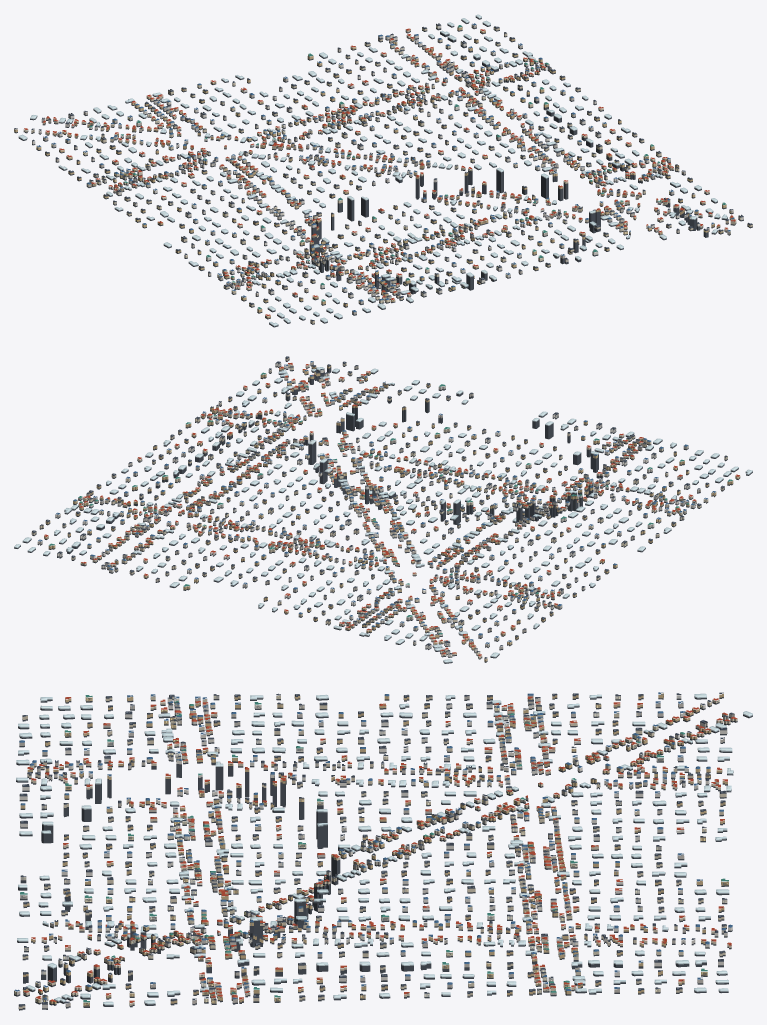
The model's file is osm_buildings_T_W04_N05.glb.
3 views of the same model, one above another, from view 1: azimuth 30°, elevation 25°; view 2: azimuth 150°, elevation 25°; view 3: azimuth 270°, elevation 25° (orthographic). The views are drawn at different scales.
Visible parts, largest first — view 1: OSM_T_W04_N05_foundation, OSM_T_W04_N05_greenhouse_blend, OSM_T_W04_N05_wall_cream_stucco, OSM_T_W04_N05_wall_french_ochre, OSM_T_W04_N05_roof_terracotta, OSM_T_W04_N05_roof_mansard_slate, OSM_T_W04_N05_wall_warm_white, OSM_T_W04_N05_wall_pastel_sand, OSM_T_W04_N05_roof_alpine_blue, OSM_T_W04_N05_roof_mansard_deck, OSM_T_W04_N05_roof_mint_metal, OSM_T_W04_N05_balcony_railing; view 2: OSM_T_W04_N05_foundation, OSM_T_W04_N05_greenhouse_blend, OSM_T_W04_N05_wall_french_ochre, OSM_T_W04_N05_wall_cream_stucco, OSM_T_W04_N05_roof_terracotta, OSM_T_W04_N05_roof_mansard_slate, OSM_T_W04_N05_wall_warm_white, OSM_T_W04_N05_wall_pastel_sand, OSM_T_W04_N05_roof_alpine_blue, OSM_T_W04_N05_roof_mansard_deck, OSM_T_W04_N05_roof_mint_metal; view 3: OSM_T_W04_N05_foundation, OSM_T_W04_N05_greenhouse_blend, OSM_T_W04_N05_wall_french_ochre, OSM_T_W04_N05_wall_cream_stucco, OSM_T_W04_N05_roof_mansard_slate, OSM_T_W04_N05_roof_terracotta, OSM_T_W04_N05_wall_warm_white, OSM_T_W04_N05_wall_pastel_sand, OSM_T_W04_N05_roof_alpine_blue, OSM_T_W04_N05_roof_mansard_deck, OSM_T_W04_N05_roof_mint_metal, OSM_T_W04_N05_balcony_railing.
Boxes of the visible parts, x1,y1,x2,y2 form: OSM_T_W04_N05_foundation: [14, 17, 752, 327]; OSM_T_W04_N05_greenhouse_blend: [18, 14, 727, 326]; OSM_T_W04_N05_wall_cream_stucco: [23, 27, 752, 323]; OSM_T_W04_N05_wall_french_ochre: [14, 26, 732, 318]; OSM_T_W04_N05_roof_terracotta: [24, 28, 735, 316]; OSM_T_W04_N05_roof_mansard_slate: [14, 23, 752, 321]; OSM_T_W04_N05_wall_warm_white: [32, 25, 743, 297]; OSM_T_W04_N05_wall_pastel_sand: [43, 24, 733, 314]; OSM_T_W04_N05_roof_alpine_blue: [37, 23, 734, 312]; OSM_T_W04_N05_roof_mansard_deck: [46, 23, 751, 303]; OSM_T_W04_N05_roof_mint_metal: [89, 25, 726, 309]; OSM_T_W04_N05_balcony_railing: [45, 26, 748, 316]; OSM_T_W04_N05_foundation: [14, 359, 752, 663]; OSM_T_W04_N05_greenhouse_blend: [14, 367, 752, 662]; OSM_T_W04_N05_wall_french_ochre: [44, 365, 740, 661]; OSM_T_W04_N05_wall_cream_stucco: [31, 357, 727, 658]; OSM_T_W04_N05_roof_terracotta: [44, 363, 739, 656]; OSM_T_W04_N05_roof_mansard_slate: [32, 357, 727, 658]; OSM_T_W04_N05_wall_warm_white: [57, 363, 696, 656]; OSM_T_W04_N05_wall_pastel_sand: [37, 362, 700, 654]; OSM_T_W04_N05_roof_alpine_blue: [38, 361, 715, 644]; OSM_T_W04_N05_roof_mansard_deck: [32, 356, 723, 644]; OSM_T_W04_N05_roof_mint_metal: [49, 372, 732, 634]; OSM_T_W04_N05_foundation: [14, 696, 752, 1010]; OSM_T_W04_N05_greenhouse_blend: [16, 693, 752, 1005]; OSM_T_W04_N05_wall_french_ochre: [20, 693, 728, 1006]; OSM_T_W04_N05_wall_cream_stucco: [18, 695, 737, 1008]; OSM_T_W04_N05_roof_mansard_slate: [19, 692, 734, 1006]; OSM_T_W04_N05_roof_terracotta: [24, 696, 737, 1002]; OSM_T_W04_N05_wall_warm_white: [19, 695, 734, 1008]; OSM_T_W04_N05_wall_pastel_sand: [14, 695, 728, 1006]; OSM_T_W04_N05_roof_alpine_blue: [14, 692, 732, 999]; OSM_T_W04_N05_roof_mansard_deck: [19, 693, 726, 1005]; OSM_T_W04_N05_roof_mint_metal: [20, 695, 728, 1002]; OSM_T_W04_N05_balcony_railing: [21, 698, 729, 1005].
Bounding box in the file's own units: 1877 × 96.78 × 1954.
